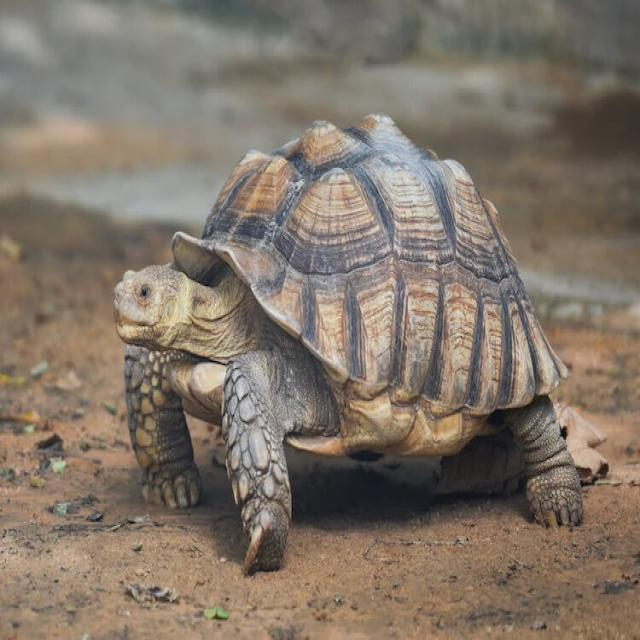tortoise: (187, 90, 571, 413), (214, 359, 295, 600), (110, 341, 211, 524), (488, 380, 592, 555), (99, 239, 228, 368)
